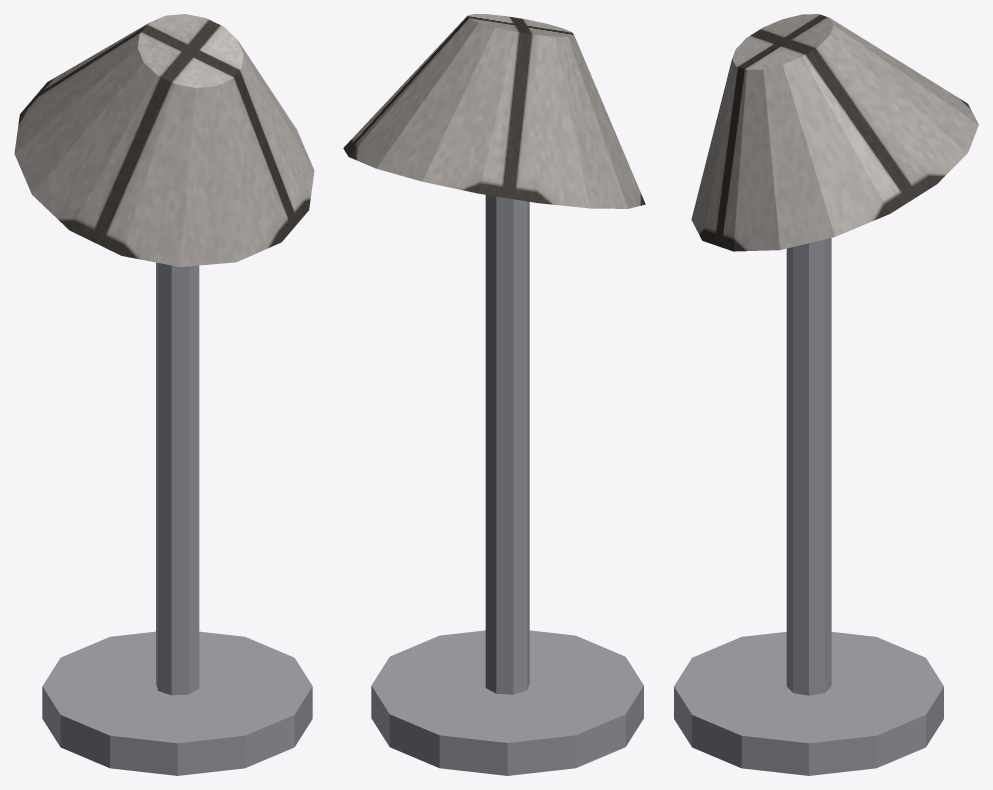
The model's file is lamp.glb.
The picture shows the model from 3 angles, left to right: view 1: azimuth 30°, elevation 25°; view 2: azimuth 150°, elevation 25°; view 3: azimuth 270°, elevation 25°; orthographic projection.
Parts seen in each view (by area): view 1: shade, base, post; view 2: shade, base, post; view 3: shade, base, post.
Part boxes in pixels (box(x1,y1,x2,y2)): shade: box(14, 14, 314, 266); base: box(42, 631, 312, 775); post: box(156, 262, 199, 695); shade: box(343, 14, 645, 208); base: box(371, 630, 643, 775); post: box(485, 195, 529, 694); shade: box(691, 14, 978, 251); base: box(674, 632, 943, 775); post: box(786, 238, 831, 695).
Size of the model in its own units: 0.68 by 1.7 by 0.6776.
2 materials, 1 textured.
